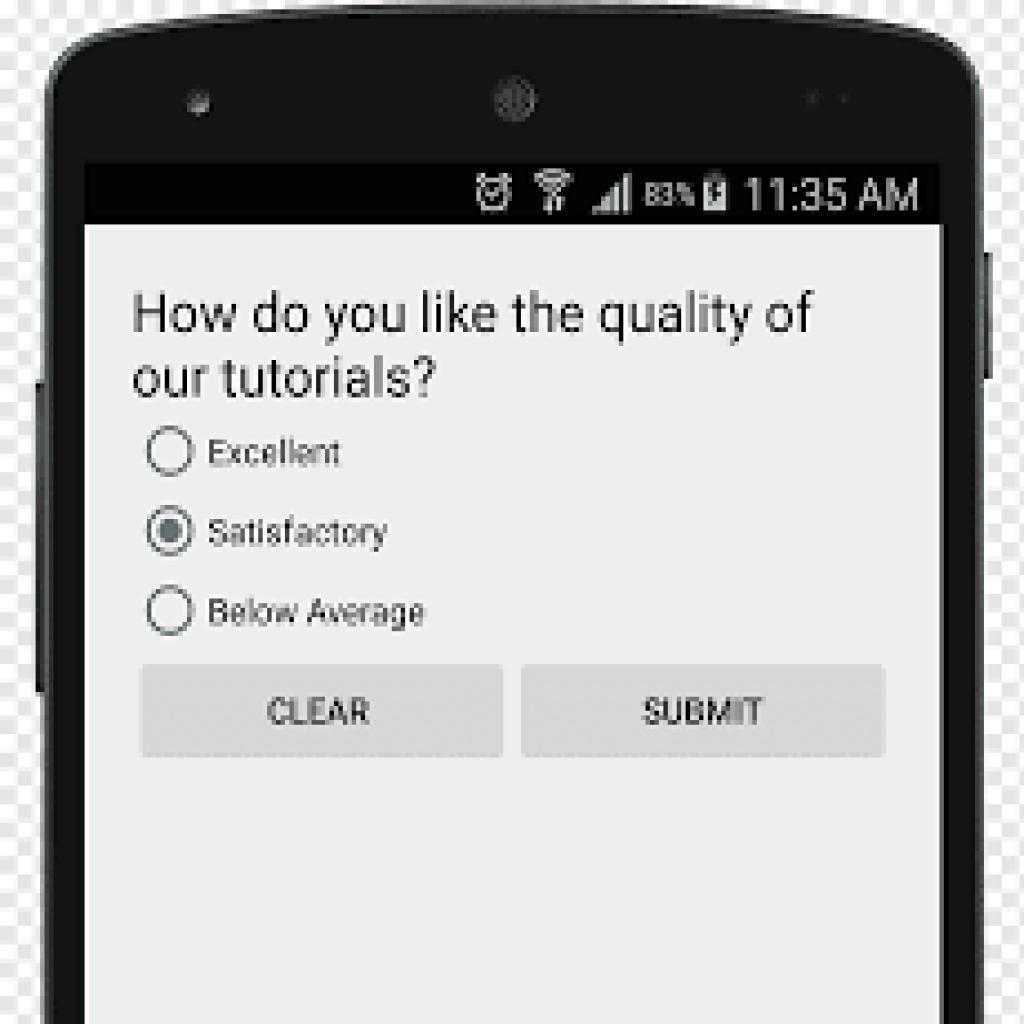button: (142, 662, 506, 757), (519, 665, 891, 756)
label: (124, 280, 823, 400), (206, 594, 443, 634), (209, 516, 393, 554), (207, 433, 348, 471)
radio: (142, 500, 196, 564), (145, 420, 198, 479), (145, 580, 197, 639)
